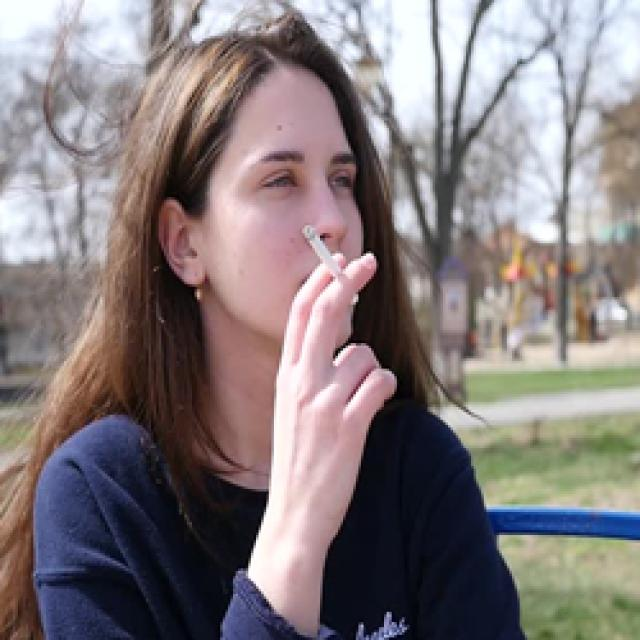Smooking: (295, 225, 347, 274)
